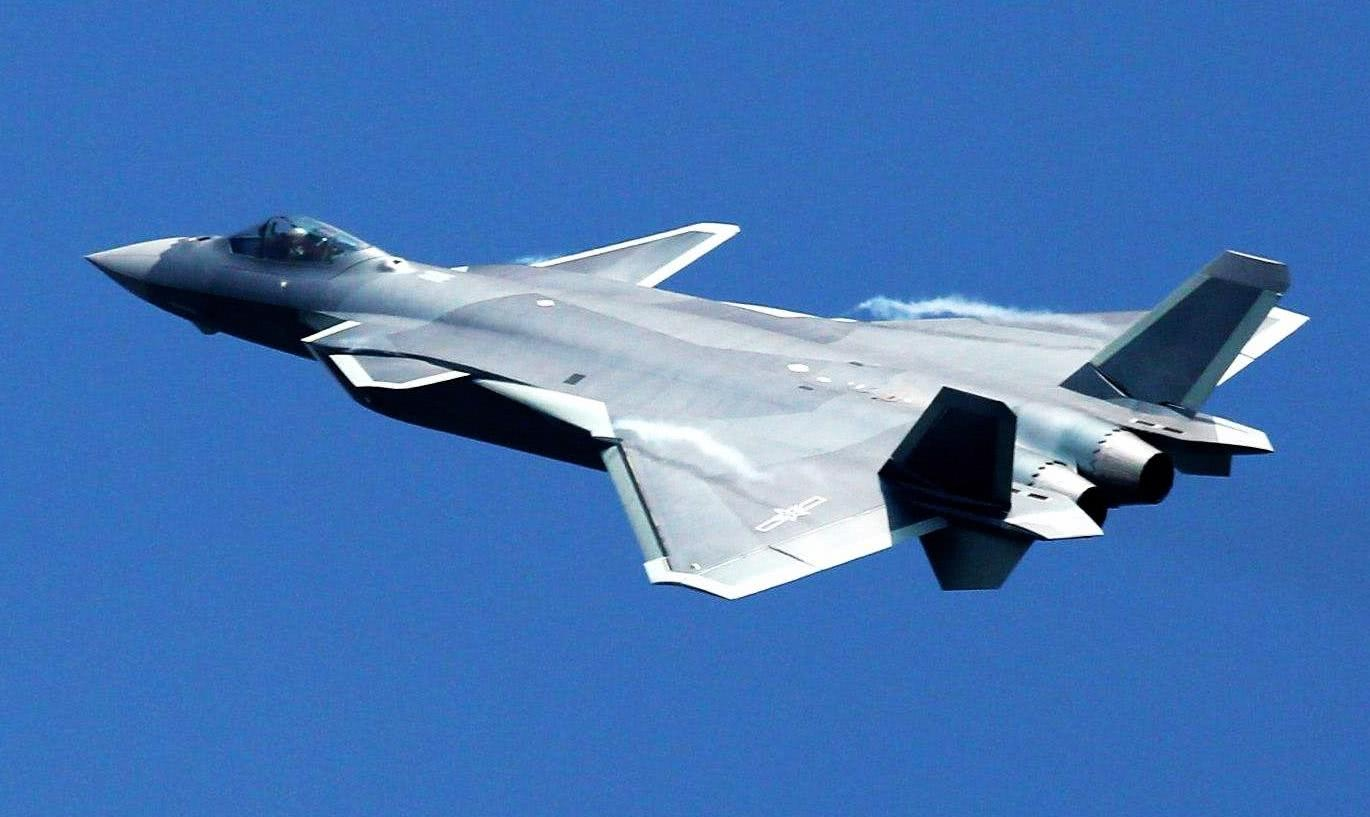airplane: (78, 204, 1311, 598)
